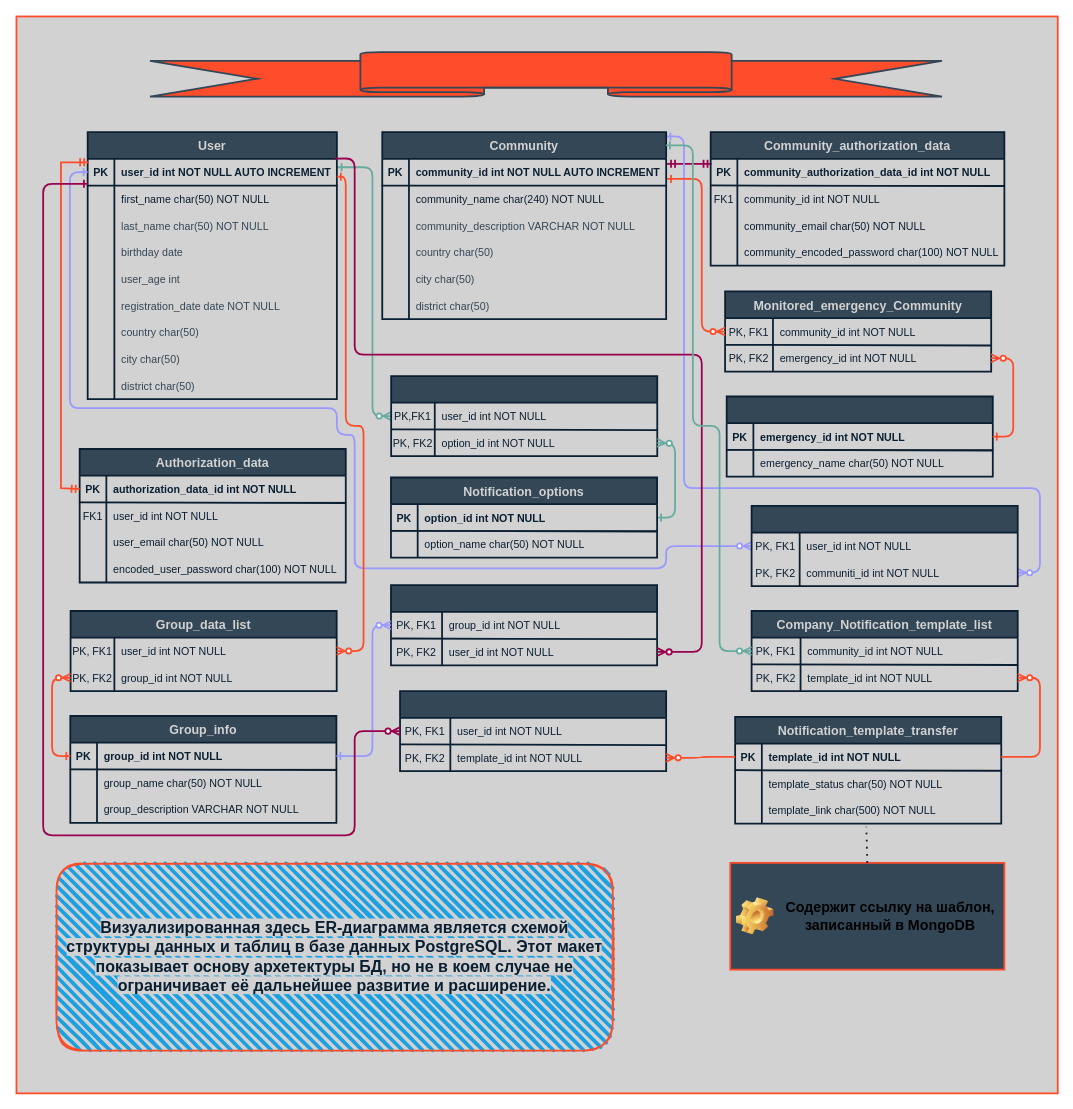
This 1073x1109 diagram has some shape labels left out. Here are the shapes that lost their labels. From the top down, the box of each, then its label:
(149, 51, 943, 97): ER-диаграмма для приложения NEAR
(390, 375, 658, 457): Notification_options_Users
(725, 395, 993, 477): Monitored_emergency
(750, 505, 1018, 587): Subscriber_subscribtion_list
(390, 584, 658, 666): Group_members_list
(399, 690, 667, 772): User_Notification_template_list
